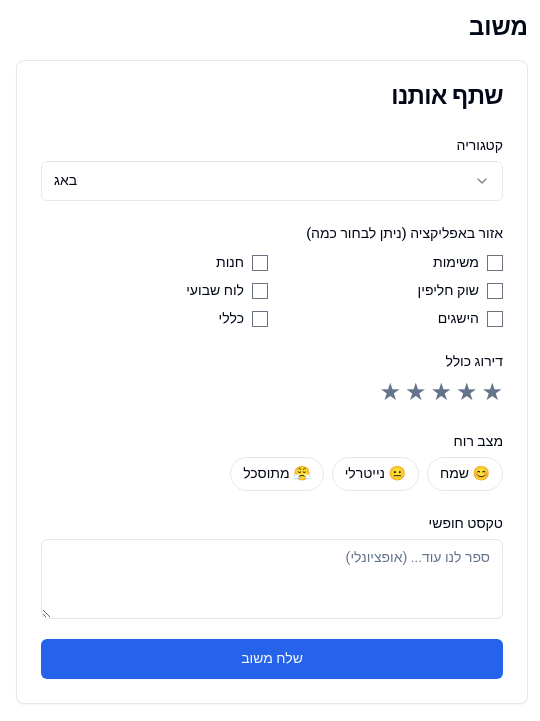
Test case: FeedbackPage › inserts feedback and shows success message
The width and height of the screenshot is (540, 721).
Click the button named "4 כוכבים": (416, 393) left=405, top=377, right=426, bottom=409
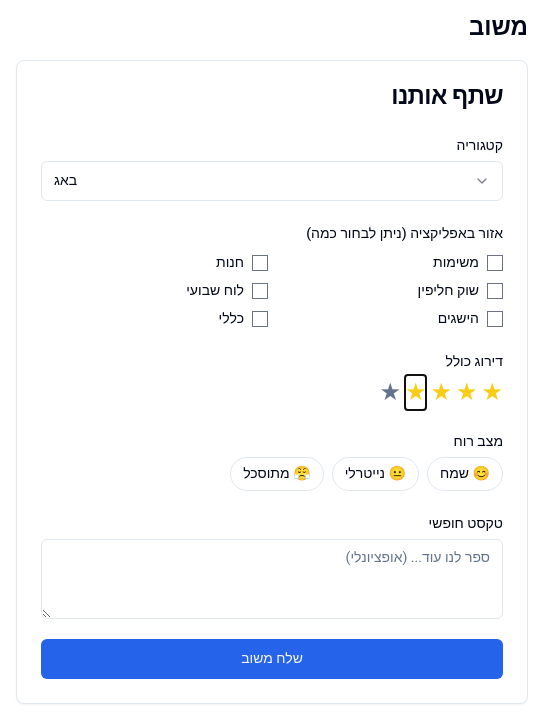
Click the button "😊 שמח": (465, 474) left=427, top=457, right=503, bottom=491
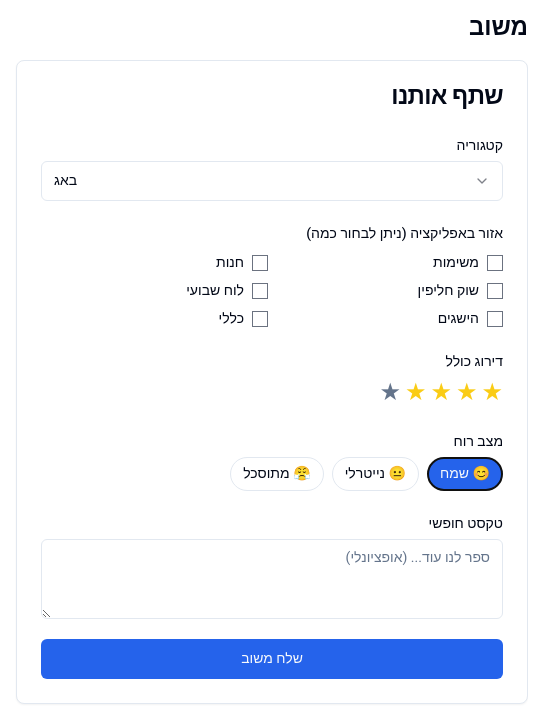
Click the button "שלח משוב": (272, 659) left=41, top=639, right=503, bottom=679
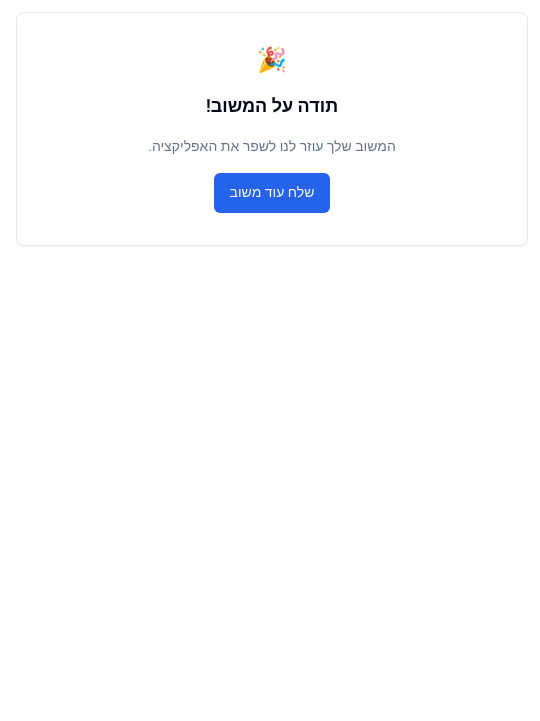
Expected: the text "תודה על המשוב!" is shown, left=206, top=93, right=338, bottom=120
